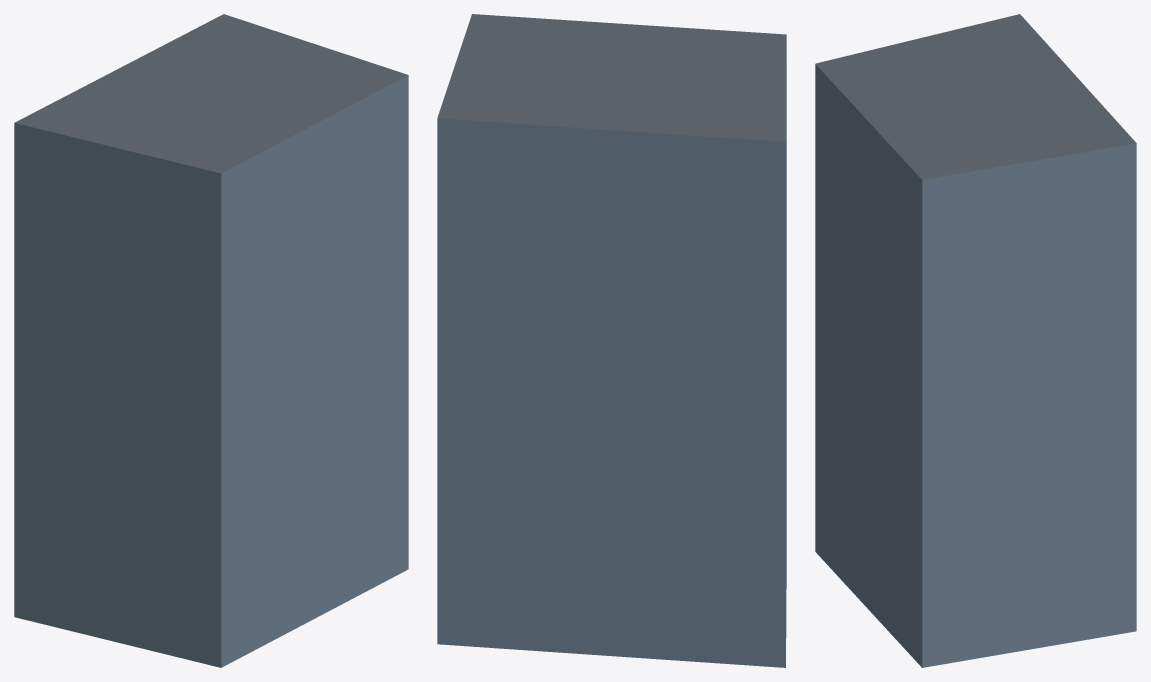
3 views of the same model, side by side, from view 1: azimuth 30°, elevation 25°; view 2: azimuth 150°, elevation 25°; view 3: azimuth 270°, elevation 25° (orthographic). The views are drawn at different scales.
Parts seen in each view (by area): view 1: HP-w1211773151; view 2: HP-w1211773151; view 3: HP-w1211773151.
Boxes of the visible parts, x1,y1,x2,y2 form: HP-w1211773151: (14,14,408,667); HP-w1211773151: (437,14,786,667); HP-w1211773151: (815,14,1136,667).
Size of the model in its own units: 72.09 by 98.8 by 59.02.
